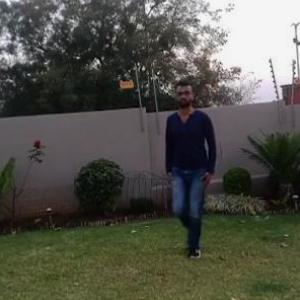follow: (165, 79, 213, 253)
